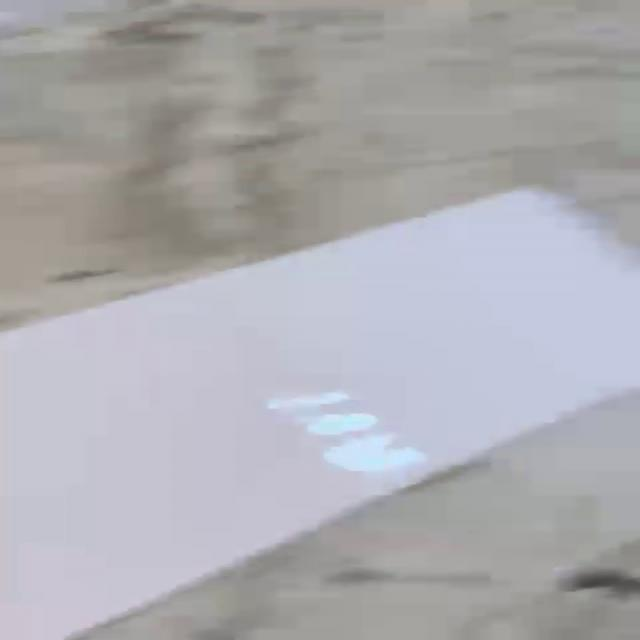road: (0, 189, 640, 640)
